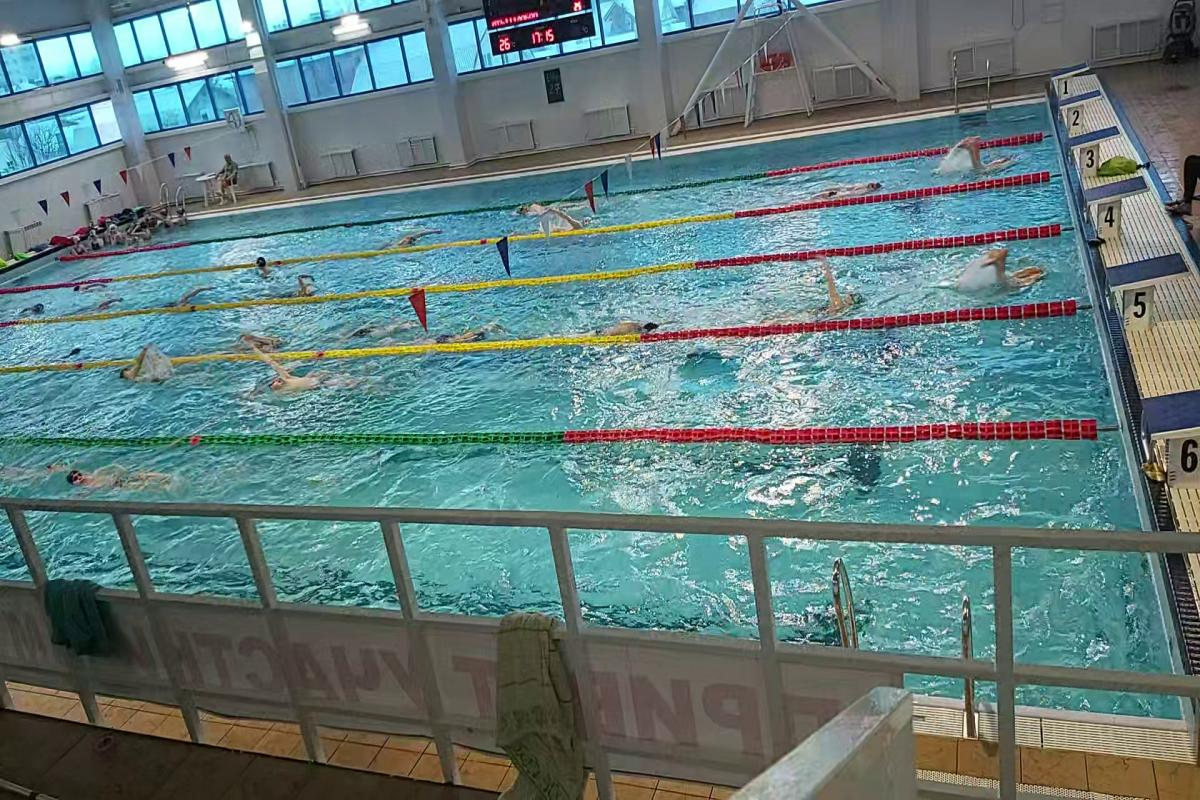swimmer: (245, 342, 366, 394), (46, 456, 188, 497), (813, 259, 868, 317), (113, 347, 168, 389), (429, 315, 506, 341), (578, 311, 666, 333), (817, 172, 885, 198), (386, 224, 446, 244), (284, 270, 326, 296), (171, 283, 215, 303), (247, 255, 280, 279), (568, 206, 593, 232), (518, 200, 553, 215)
